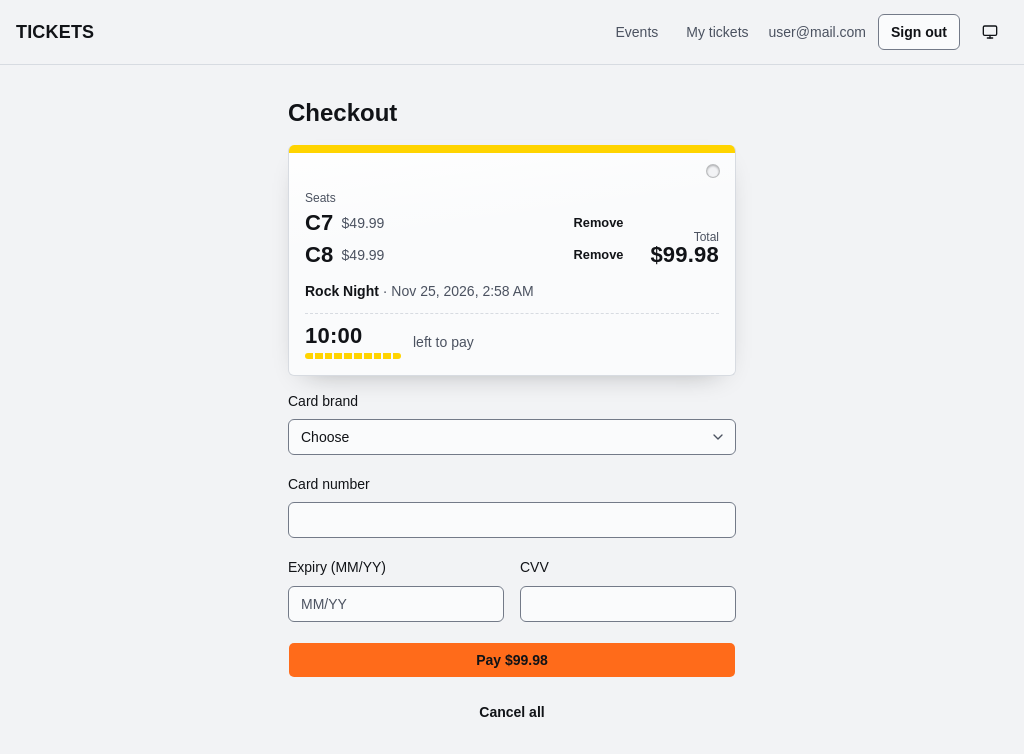
it: group checkout: paying › explains which reservation expired during the payment and lets the user pay the rest
Select "VISA" in the dropdown labelled "Card brand" at {"x": 512, "y": 437}, box [288,419,736,455]
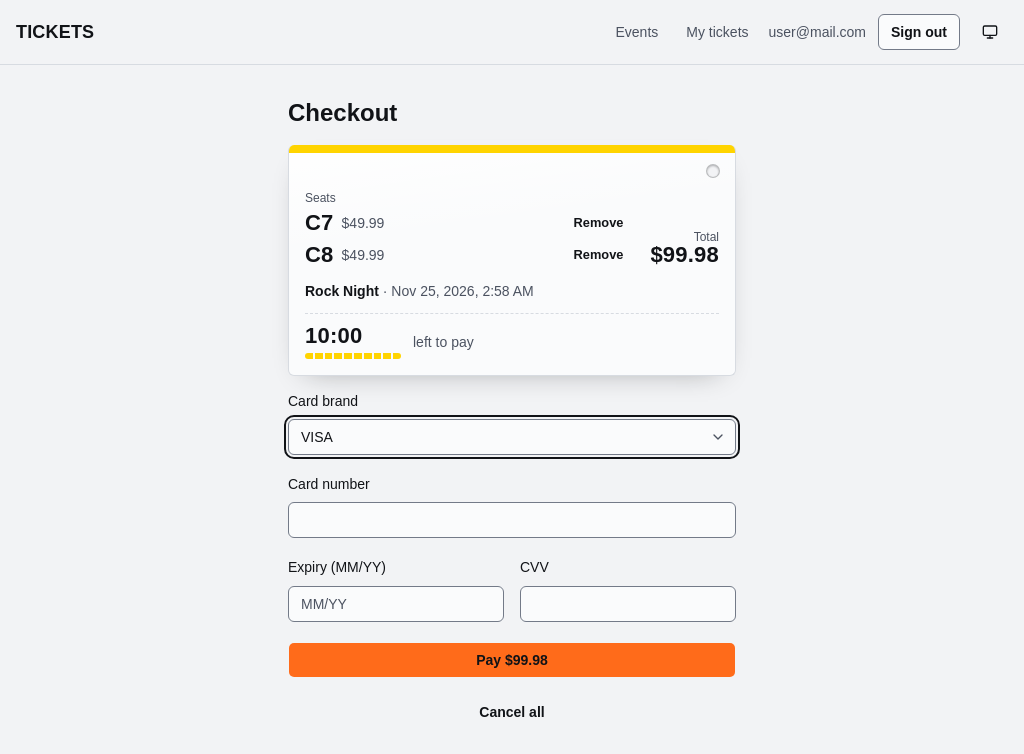
Type "4111111111111111" into the field labelled "Card number" at {"x": 512, "y": 520}, box [288,502,736,538]
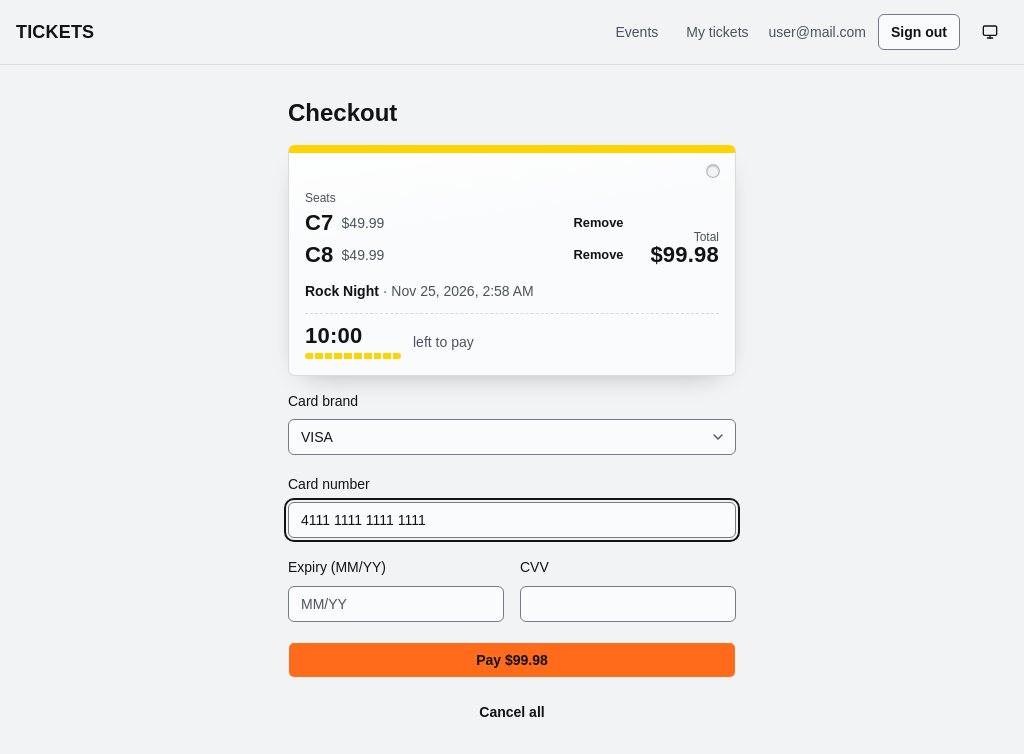
Type "1299" into the field labelled "Expiry (MM/YY)" at {"x": 396, "y": 604}, box [288,586,504,622]
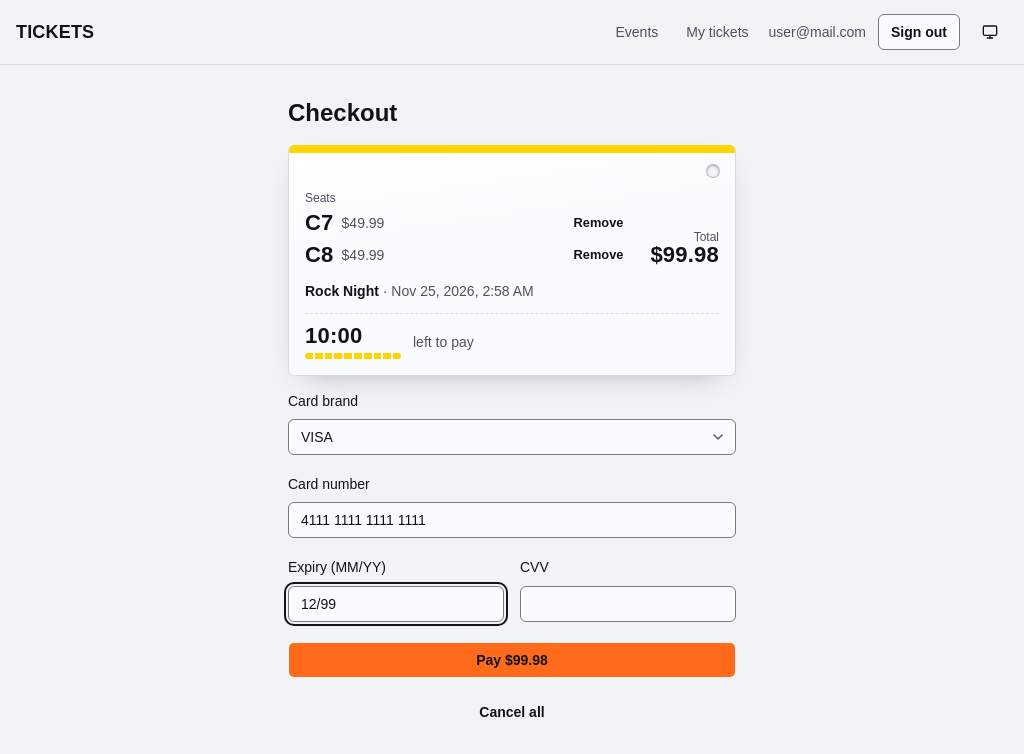
Type "123" into the field labelled "CVV" at {"x": 628, "y": 604}, box [520,586,736,622]
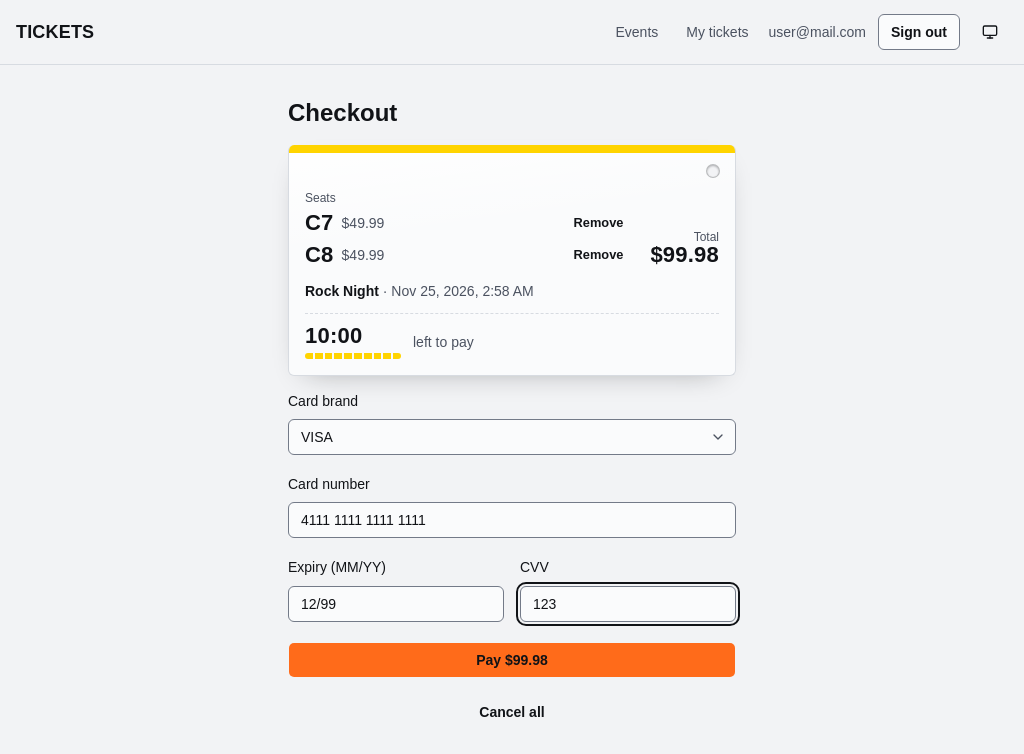
Click the button "Pay $99.98" at {"x": 512, "y": 660}, box [288,642,736,678]
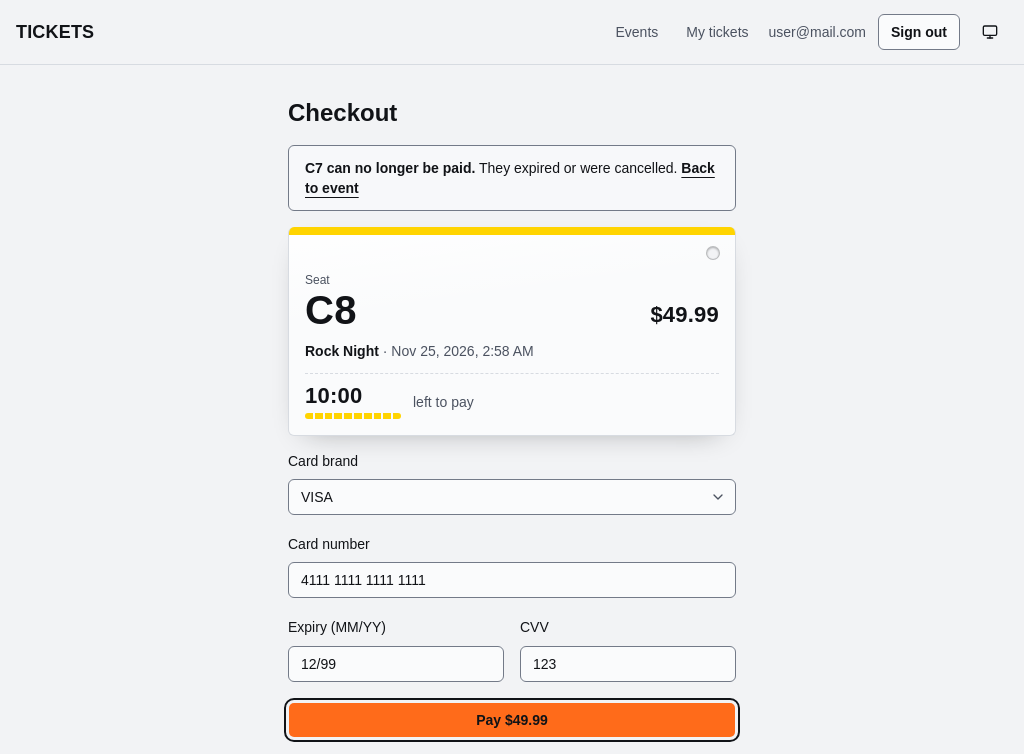
expect the text "C7 can no longer be paid." is shown: met, box [305,160,475,176]
expect the button "Pay $49.99" is shown: met
Click the button "Pay $49.99" at {"x": 512, "y": 720}, box [288,702,736,738]
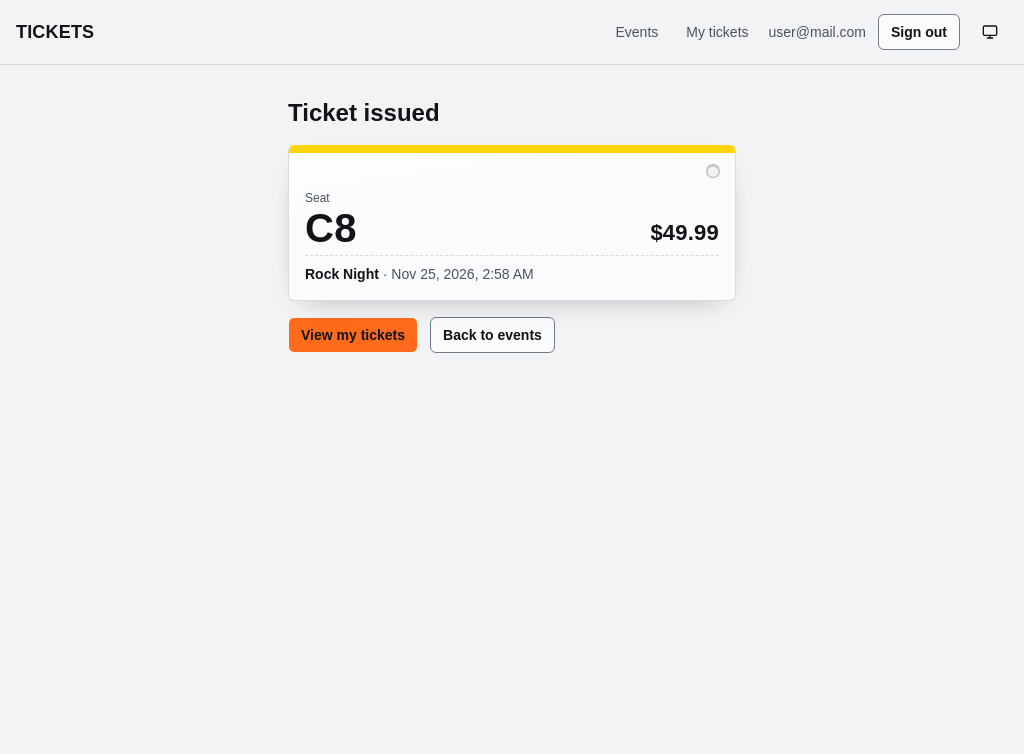
expect the heading "Ticket issued" is shown: met, box [288,99,440,126]
